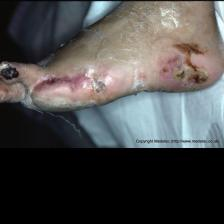Wound: (160, 36, 207, 89), (77, 64, 114, 95), (129, 63, 150, 99), (0, 61, 21, 87)
